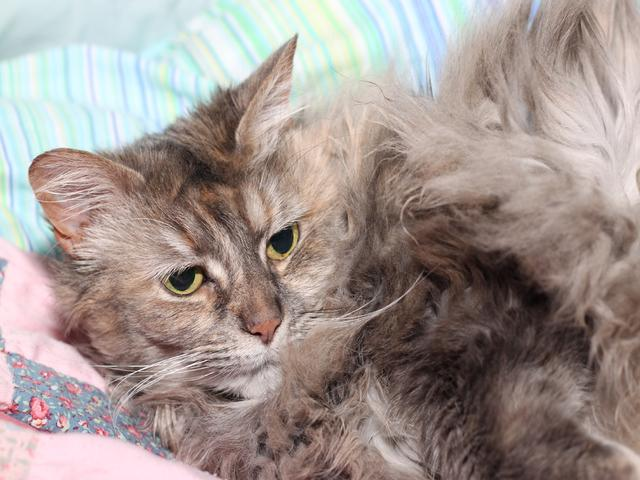cat: (22, 64, 465, 398)
